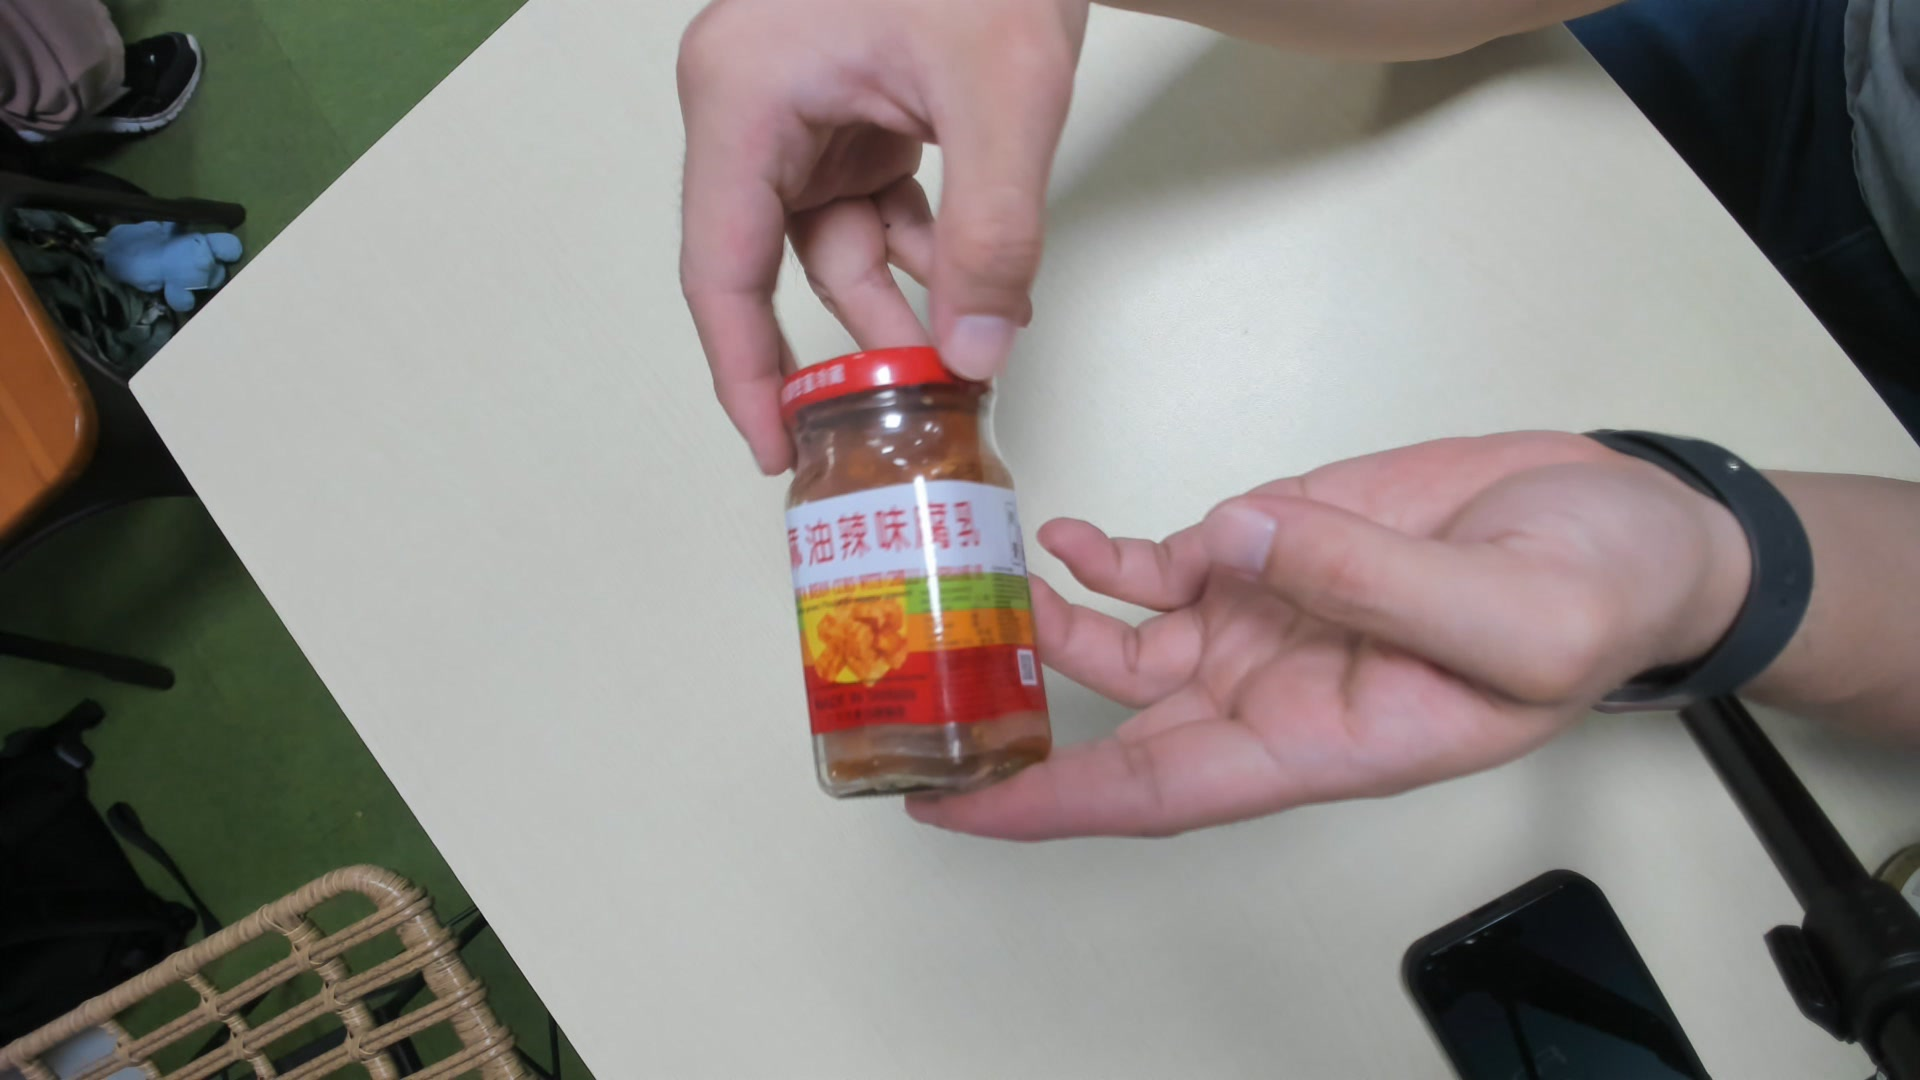OtherSauceDressing_100-199g_NonHalal_NonHealthy: (781, 349, 1059, 800)
